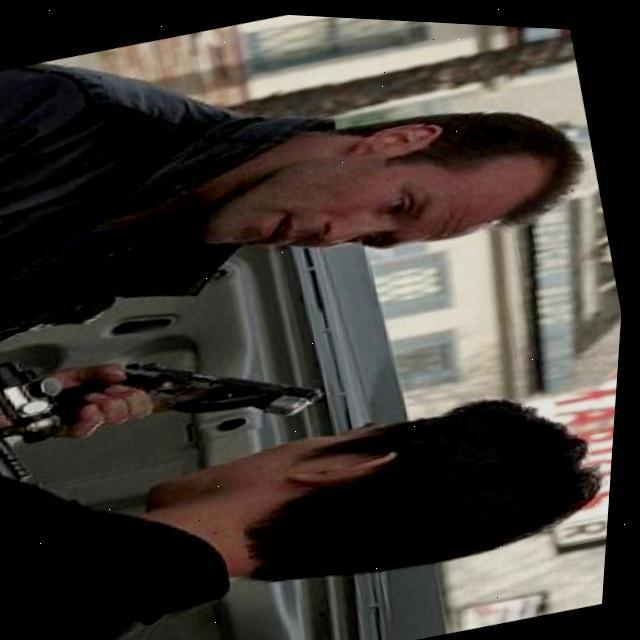gun: (0, 280, 354, 488)
